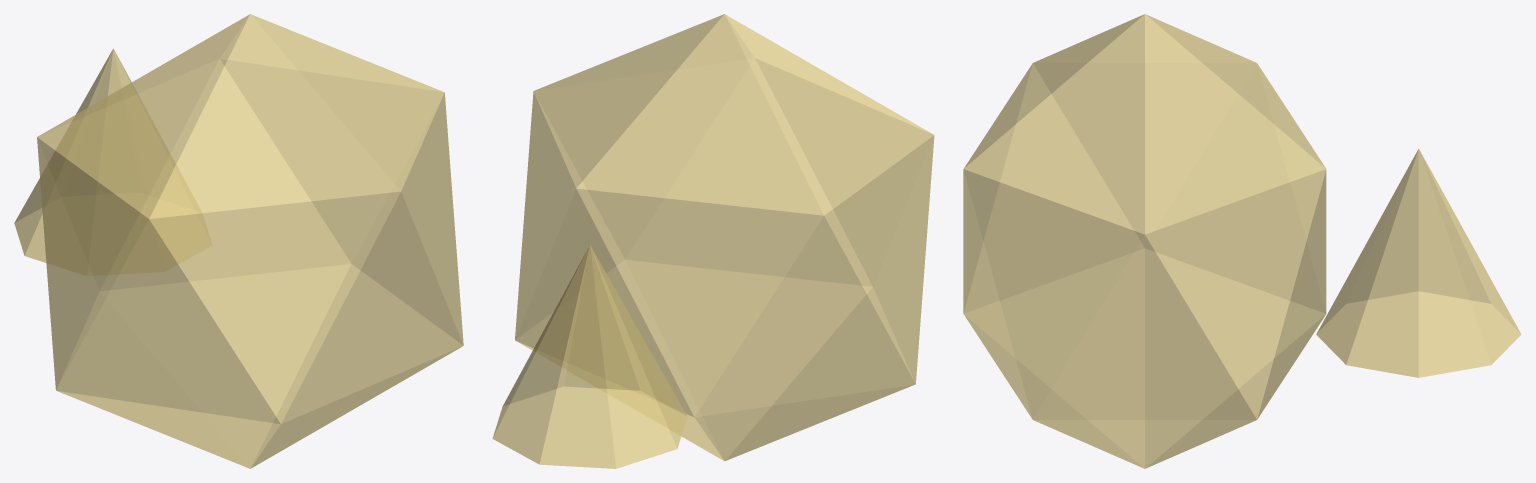
File: prop_droplet.glb
3 renders of one model, left to right at view 1: azimuth 30°, elevation 25°; view 2: azimuth 150°, elevation 25°; view 3: azimuth 270°, elevation 25°, orthographic.
Parts seen in each view (by area): view 1: PropDroplet_Shape; view 2: PropDroplet_Shape; view 3: PropDroplet_Shape.
Boxes of the visible parts, x1,y1,x2,y2 form: PropDroplet_Shape: [14, 14, 463, 468]; PropDroplet_Shape: [492, 14, 934, 468]; PropDroplet_Shape: [963, 14, 1521, 468].
Bounding box in the file's own units: 0.3935 × 0.44 × 0.4891.
